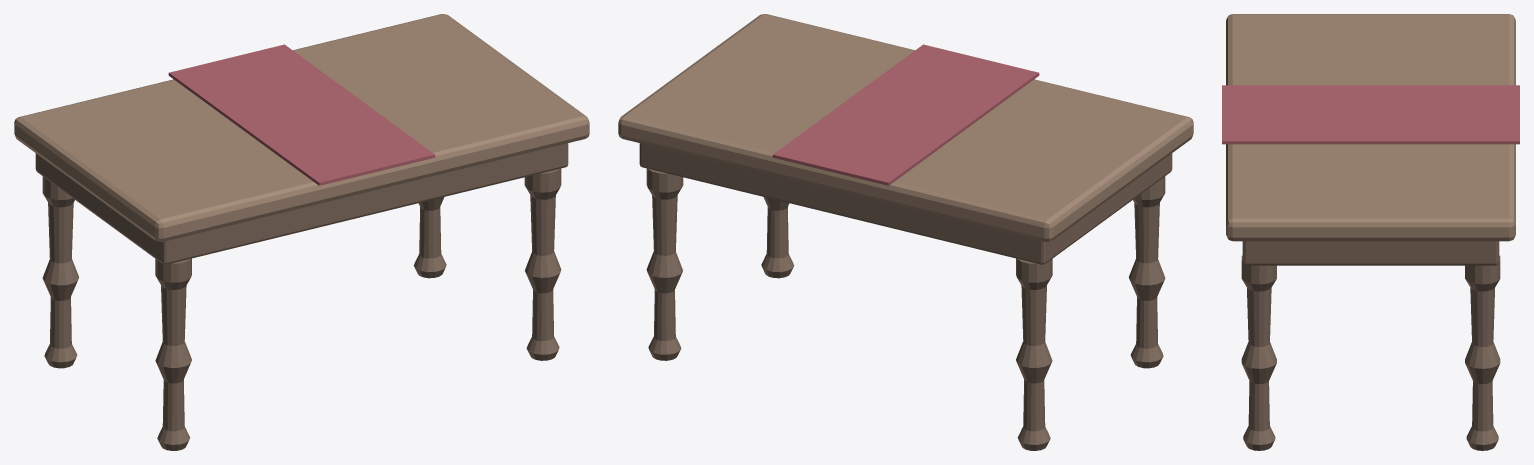
File: Table.glb
3 renders of one model, left to right at view 1: azimuth 30°, elevation 25°; view 2: azimuth 150°, elevation 25°; view 3: azimuth 270°, elevation 25°, orthographic.
Parts seen in each view (by area): view 1: Table_Wood, Table_DarkWood, Table_Cloth; view 2: Table_Wood, Table_DarkWood, Table_Cloth; view 3: Table_Wood, Table_Cloth, Table_DarkWood.
Part boxes in pixels (x1,y1,x2,y2): Table_Wood: [14, 14, 589, 241]; Table_DarkWood: [35, 143, 568, 450]; Table_Cloth: [168, 44, 435, 185]; Table_Wood: [618, 14, 1193, 241]; Table_DarkWood: [639, 143, 1172, 450]; Table_Cloth: [772, 44, 1039, 185]; Table_Wood: [1226, 14, 1515, 241]; Table_Cloth: [1222, 85, 1519, 144]; Table_DarkWood: [1241, 241, 1500, 450].
Bounding box in the file's own units: 6 × 3.24 × 3.6.
